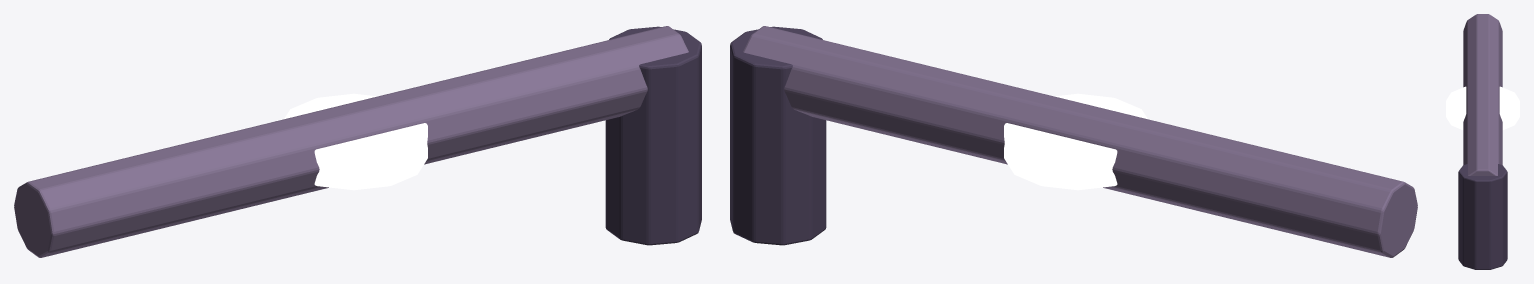
Rendered from SM_Labor_Pipe.fbx.
The picture shows the model from 3 angles, left to right: view 1: azimuth 30°, elevation 25°; view 2: azimuth 150°, elevation 25°; view 3: azimuth 270°, elevation 25°; orthographic projection. The views are drawn at different scales.
Parts seen in each view (by area): view 1: SM_Labor_Pipe; view 2: SM_Labor_Pipe; view 3: SM_Labor_Pipe.
Part boxes in pixels (x1,y1,x2,y2): SM_Labor_Pipe: (14, 26, 701, 257); SM_Labor_Pipe: (730, 26, 1417, 257); SM_Labor_Pipe: (1446, 14, 1519, 269).
Size of the model in its own units: 3.09 by 0.8522 by 0.597.
